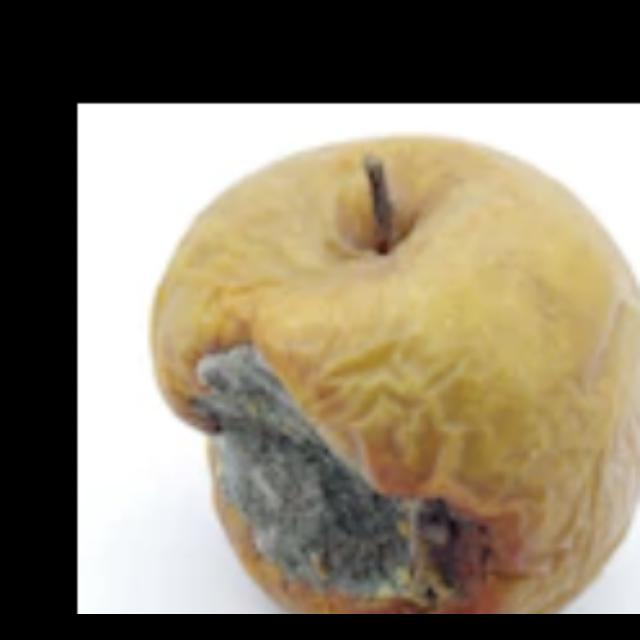Apel Tidak Segar: (138, 140, 640, 614)
